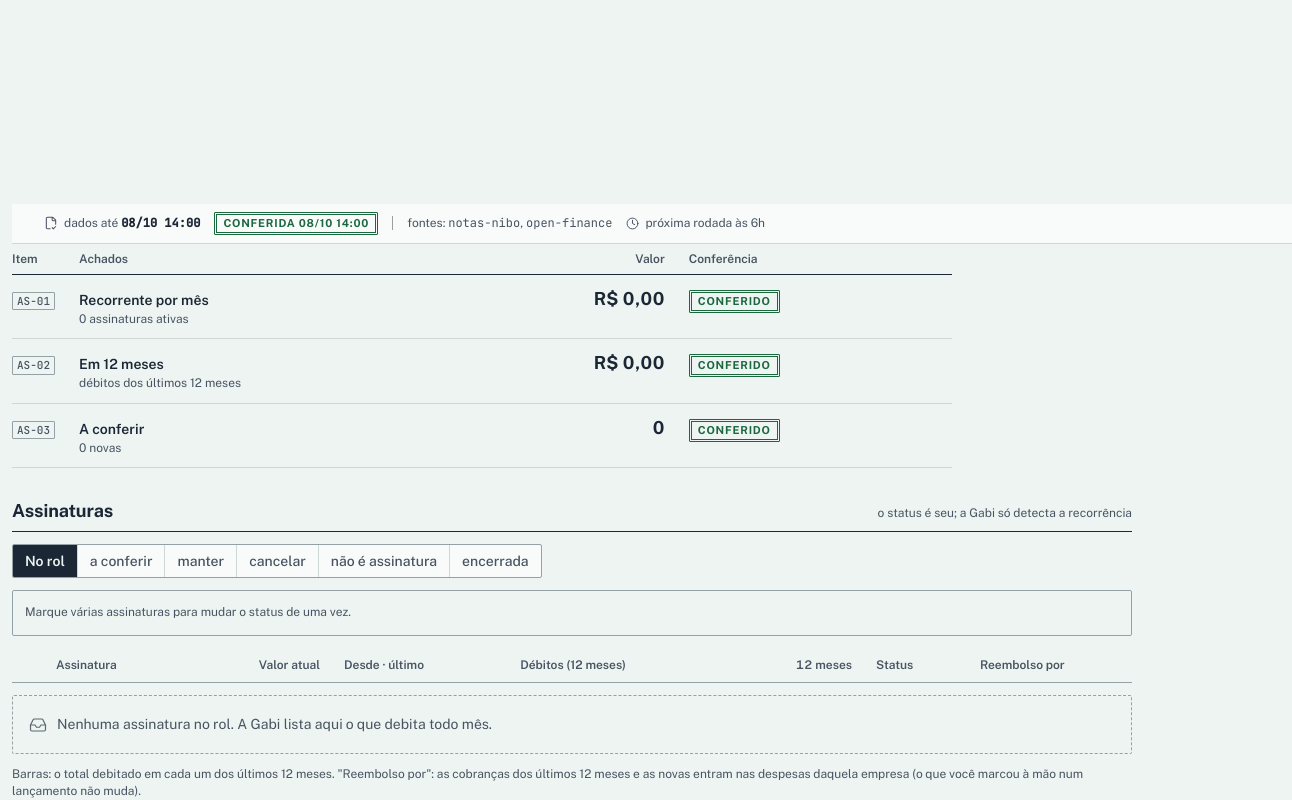
assinatura marcada como nao e assinatura some do rol e aparece no filtro do status
This screenshot has width=1292, height=800.
(page scrolled)
Expected: the text "0 assinaturas ativas" is shown, [79,312,188,326]
Click the button "não é assinatura" at [383, 561], box [318,545,449,577]
(page scrolled)
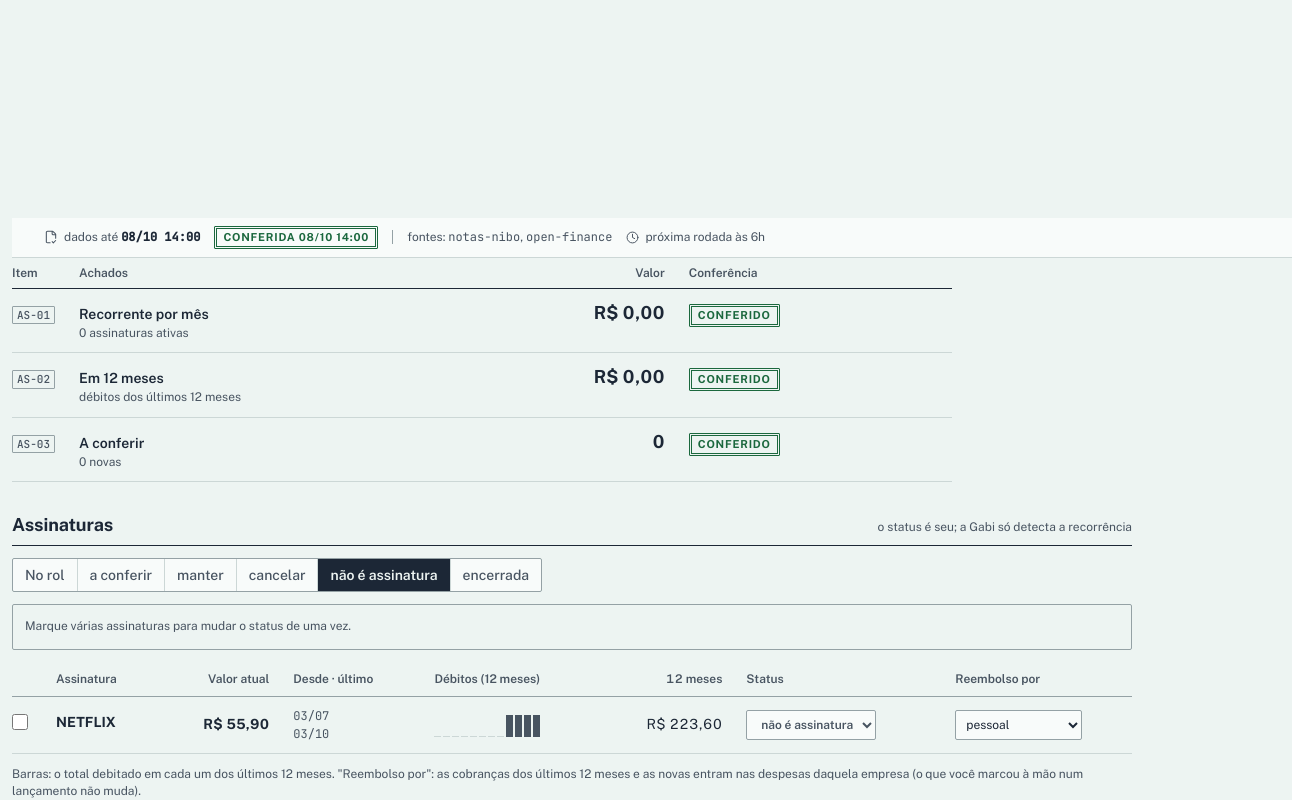
Result: the text "NETFLIX" is shown at [56,714,116,730]
